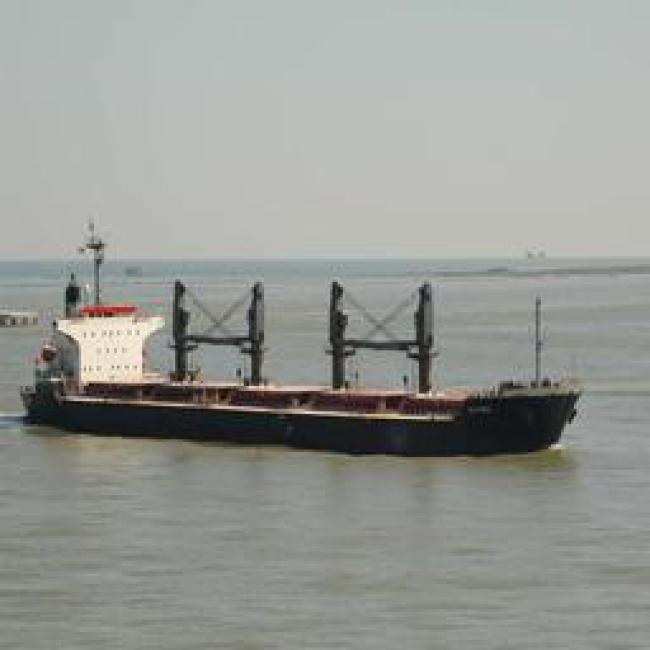Ship: (19, 285, 588, 466)
